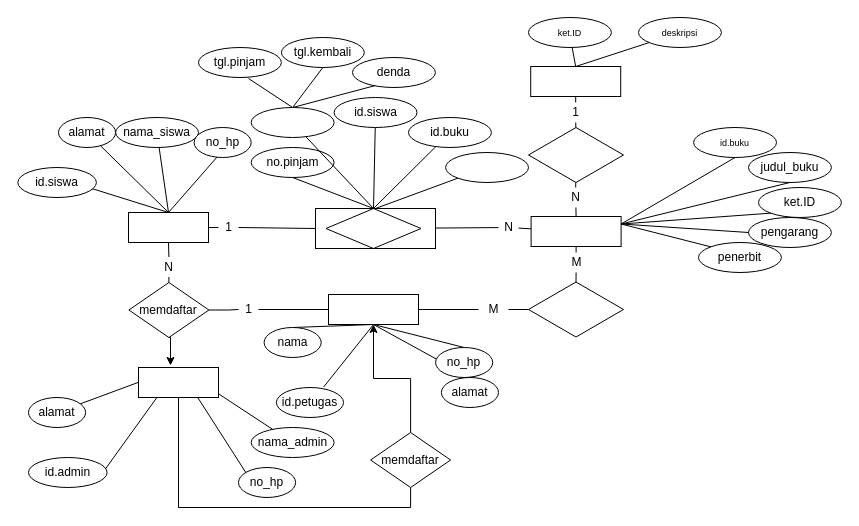
This 859x526 diagram has some shape labels left out. The shapes that lost their labels are listed below. From the top down, each one's box as (x1, y1, x2, y2) in pixels, then its label:
(530, 66, 621, 96): katagori
(250, 106, 334, 138): pinjam
(445, 152, 528, 182): jumlah
(528, 126, 624, 182): memilki
(128, 212, 208, 242): siswa
(325, 208, 421, 248): meminjam
(530, 216, 621, 246): buku
(328, 294, 418, 324): pustakawan
(528, 281, 624, 337): mendata
(138, 366, 218, 398): admin
